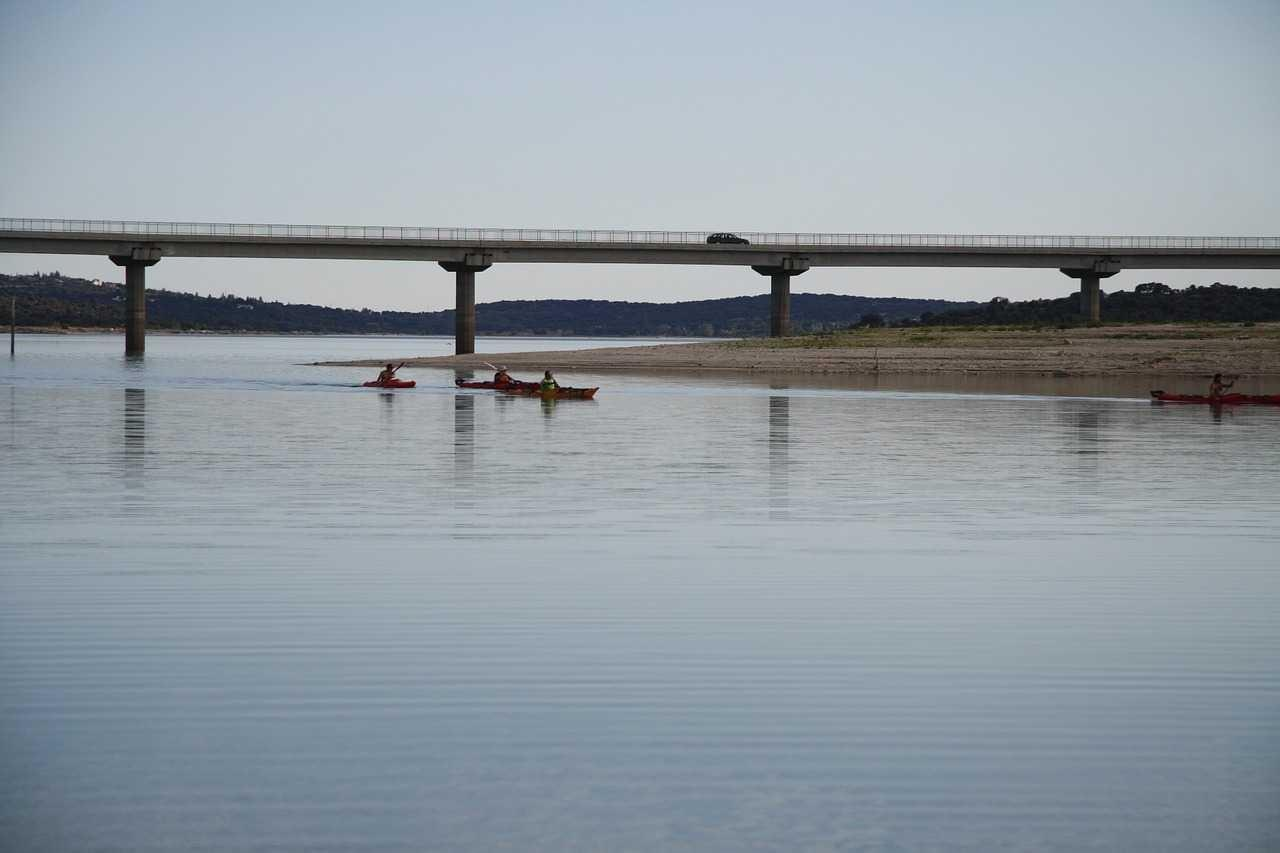kayak: (1150, 388, 1280, 410)
